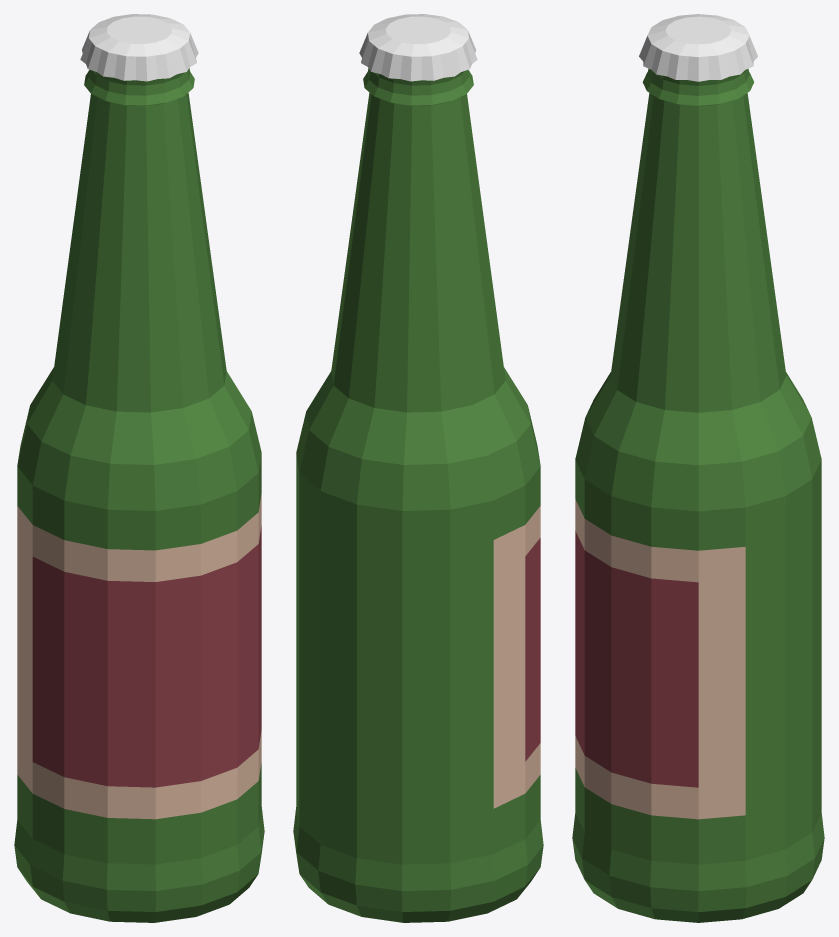
Rendered from beer.fbx.
3 views of the same model, side by side, from view 1: azimuth 30°, elevation 25°; view 2: azimuth 150°, elevation 25°; view 3: azimuth 270°, elevation 25° (orthographic).
Parts seen in each view (by area): view 1: BeerBottle; view 2: BeerBottle; view 3: BeerBottle.
Boxes of the visible parts, left/top/right/bottom form: BeerBottle: left=14, top=14, right=264, bottom=922; BeerBottle: left=293, top=14, right=543, bottom=922; BeerBottle: left=572, top=14, right=824, bottom=922.
Bounding box in the file's own units: 205 × 756 × 205.
